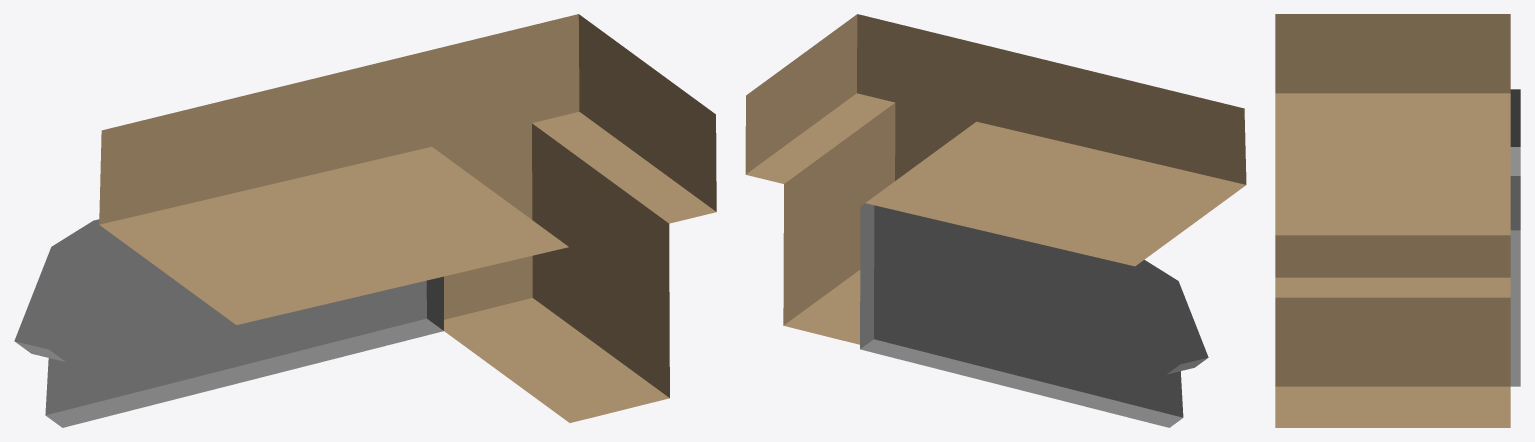
3 views of the same model, side by side, from view 1: azimuth 30°, elevation 25°; view 2: azimuth 150°, elevation 25°; view 3: azimuth 270°, elevation 25° (orthographic). The views are drawn at different scales.
Visible parts, largest first — view 1: 0_0_3_1_3_2_0_0; view 2: 0_0_3_1_3_2_0_0; view 3: 0_0_3_1_3_2_0_0.
Boxes of the visible parts, x1,y1,x2,y2 form: 0_0_3_1_3_2_0_0: (14,14,716,427); 0_0_3_1_3_2_0_0: (745,14,1246,427); 0_0_3_1_3_2_0_0: (1275,14,1520,427).
Bounding box in the file's own units: 56.48 × 26.71 × 25.
